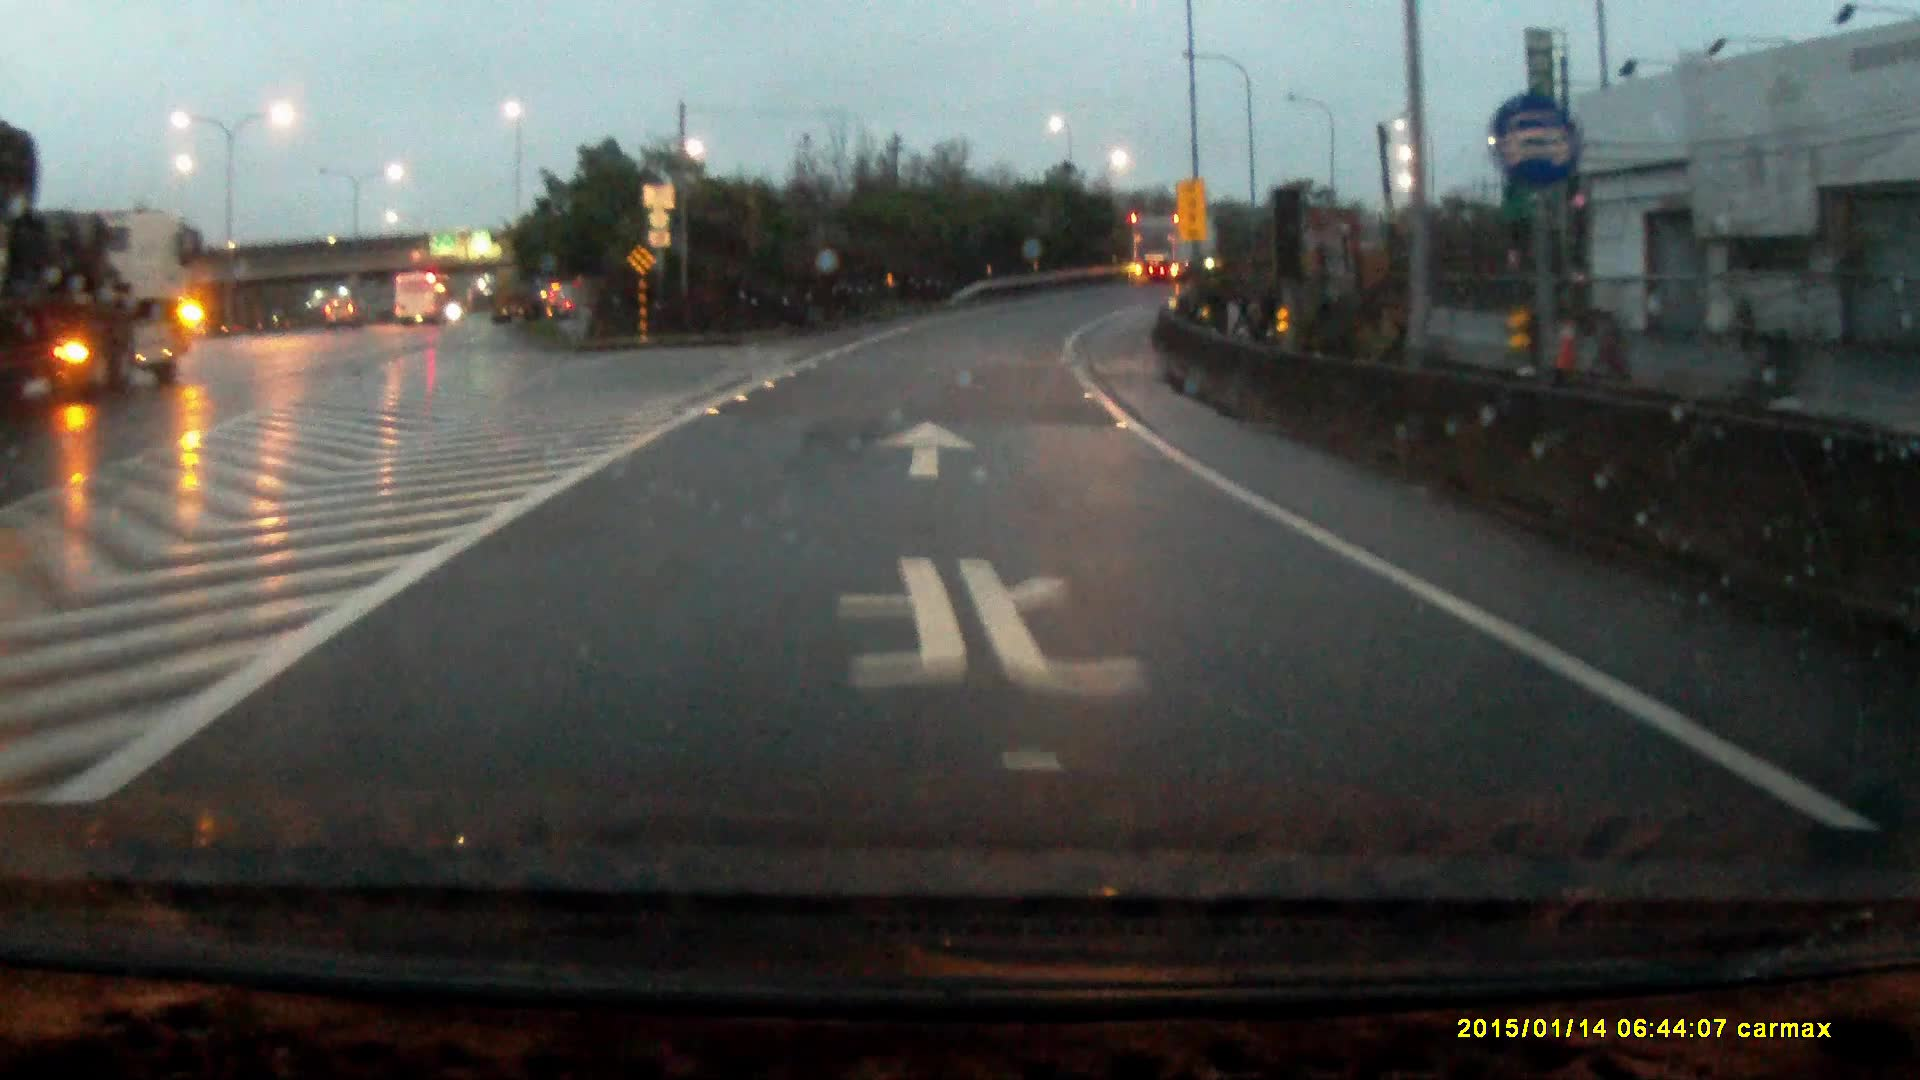vehicle: (1, 164, 200, 400), (1131, 210, 1226, 282), (396, 272, 448, 323), (326, 297, 359, 328)
